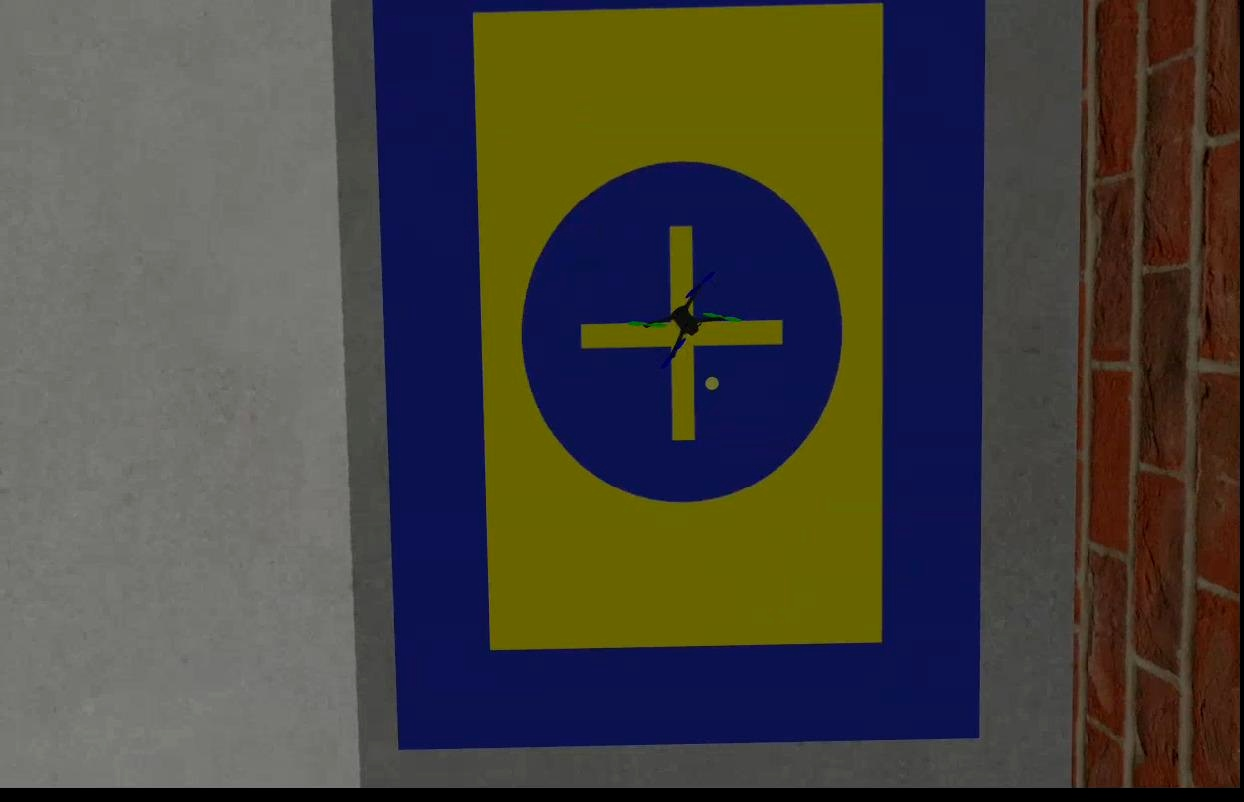large_base: (373, 1, 984, 757)
